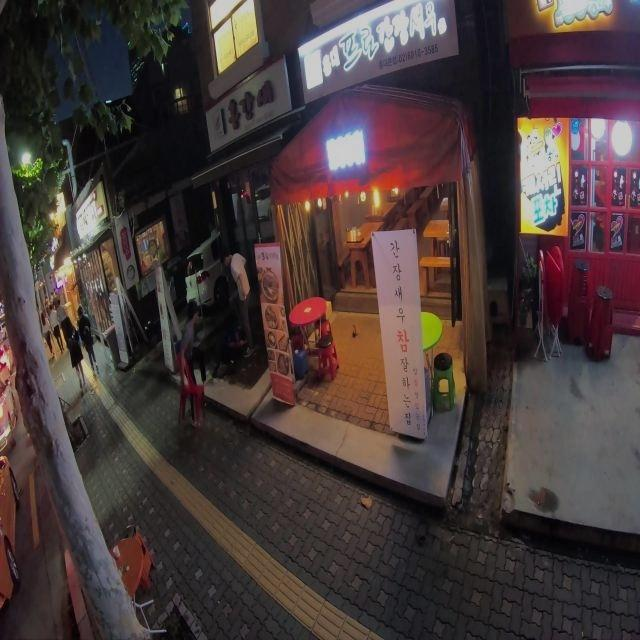fight: (174, 249, 253, 391)
non-fight: (62, 316, 86, 392)
